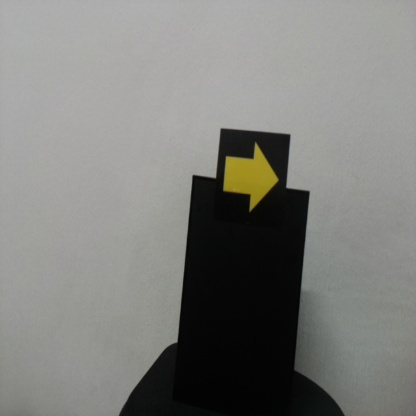id_3: (219, 130, 287, 222)
